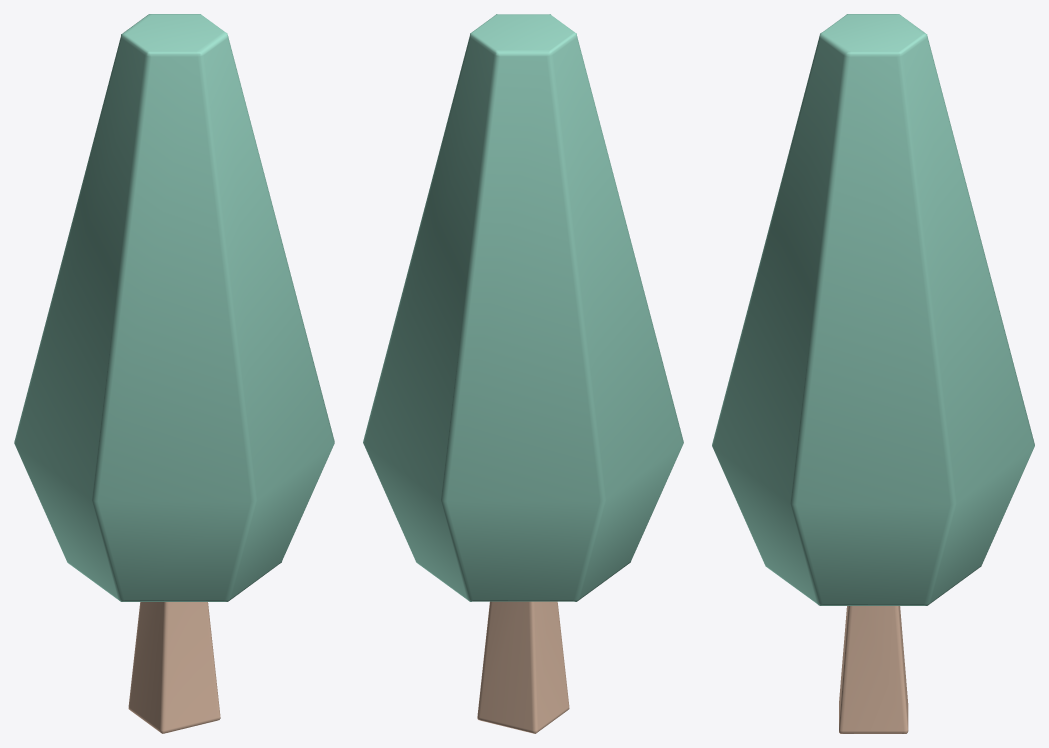
The model's file is tree_textures.gltf.
The picture shows the model from 3 angles, left to right: view 1: azimuth 30°, elevation 25°; view 2: azimuth 150°, elevation 25°; view 3: azimuth 270°, elevation 25°; orthographic projection.
Visible parts, largest first — view 1: tree_small; view 2: tree_small; view 3: tree_small.
Boxes of the visible parts, box(x1,y1,x2,y2) form: tree_small: box(14, 14, 334, 733); tree_small: box(363, 14, 683, 733); tree_small: box(712, 14, 1034, 733).
Bounding box in the file's own units: 0.2599 × 0.7 × 0.2982.
